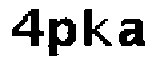4: (9, 5, 45, 48)
a: (116, 16, 149, 51)
k: (81, 4, 114, 53)
p: (46, 16, 79, 60)
